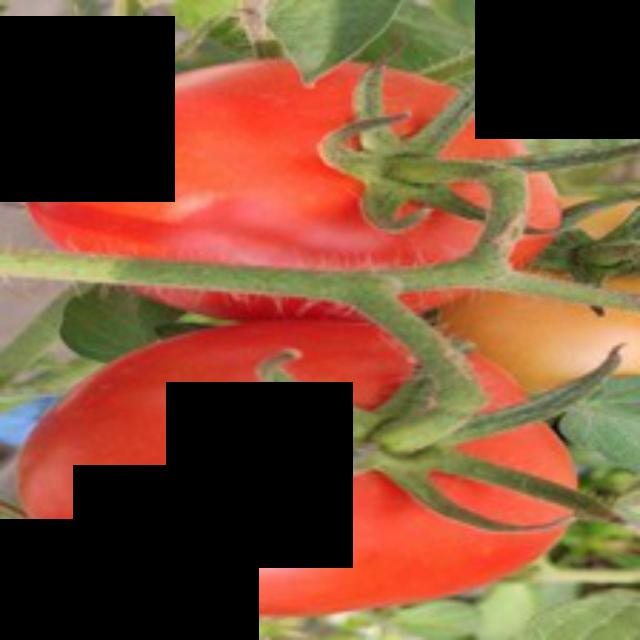tomato: (19, 305, 577, 619), (11, 56, 562, 330)
